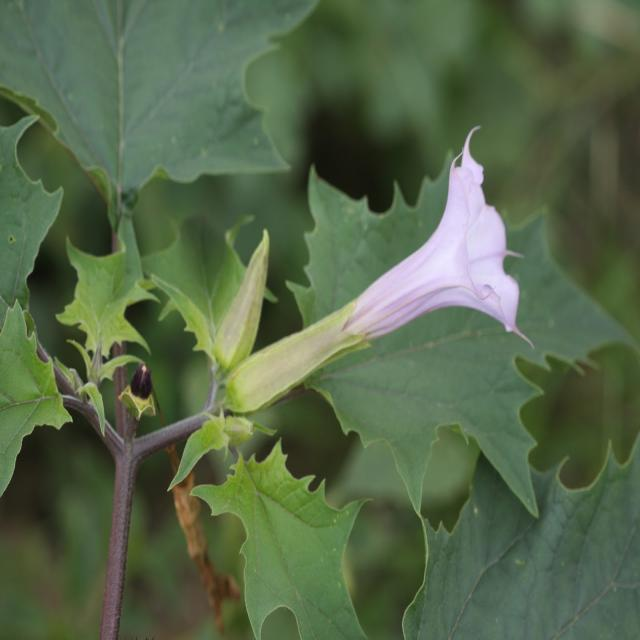Poisonous-Datura_Stramonium: (170, 118, 547, 474), (0, 0, 342, 243), (393, 434, 640, 640)
